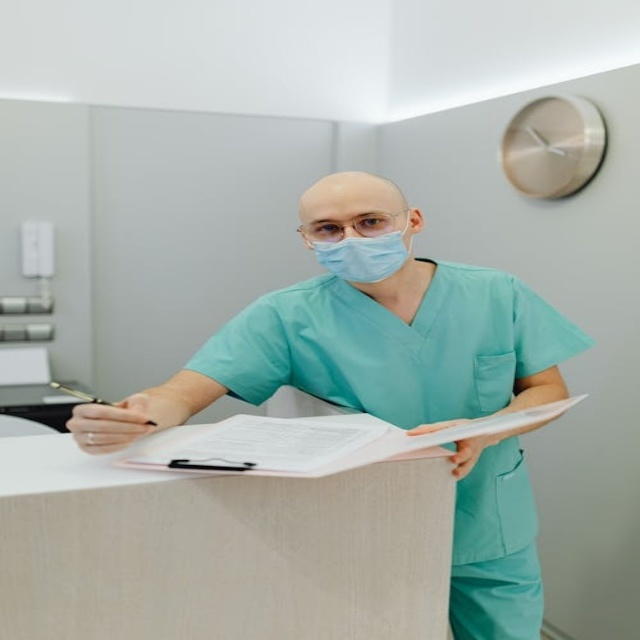Gafas: (297, 209, 410, 244)
Mascara: (303, 232, 413, 286)
Sin_guantes: (403, 409, 524, 480), (66, 393, 163, 454)
